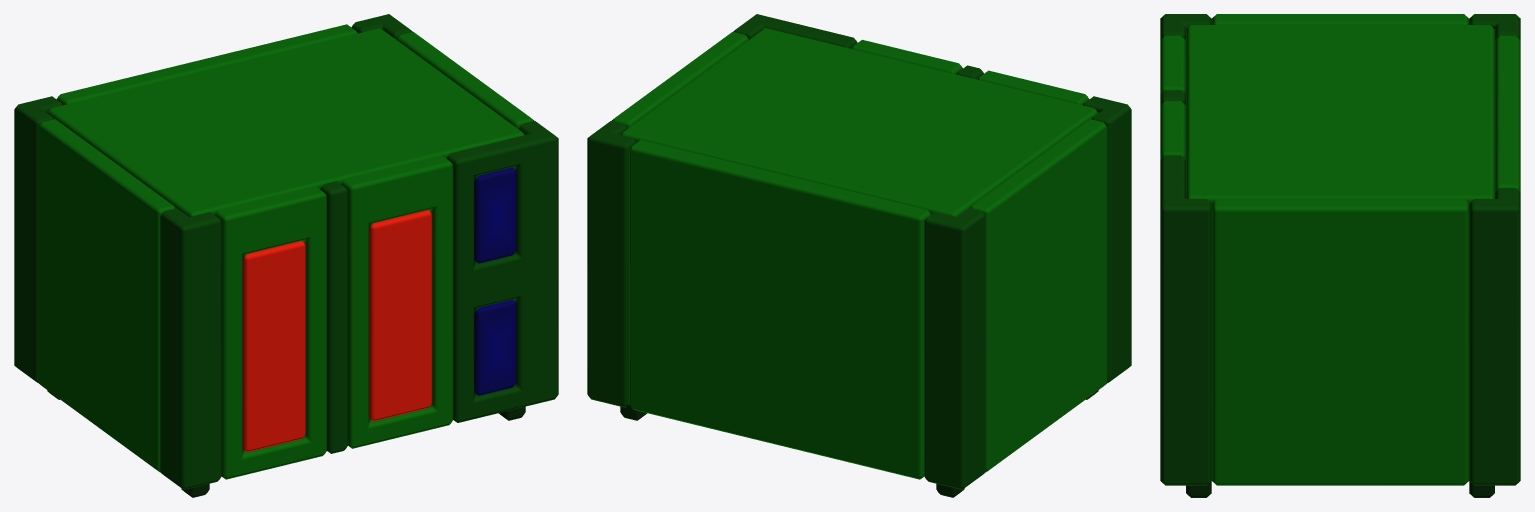
3 renders of one model, left to right at view 1: azimuth 30°, elevation 25°; view 2: azimuth 150°, elevation 25°; view 3: azimuth 270°, elevation 25°, orthographic. The views are drawn at different scales.
Visible parts, largest first — view 1: Plane.452; view 2: Plane.452; view 3: Plane.452.
Part boxes in pixels (x1,y1,x2,y2): Plane.452: [14, 14, 558, 497]; Plane.452: [587, 14, 1131, 497]; Plane.452: [1160, 14, 1520, 497].
Bounding box in the file's own units: 0.9 × 0.65 × 0.7.
